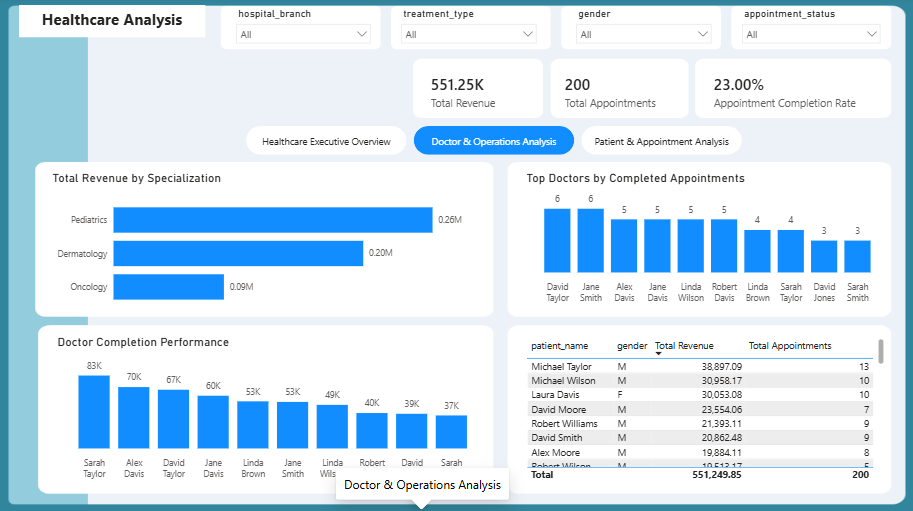

Layout of this report page (visuals, bound fields, positions):
{"tool":"powerbi","page":{"name":"Doctor & Operations Analysis","canvas":[1280,720],"ordinal":1},"visuals":[{"type":"cardVisual","fields":{"Data":["healthcare_analysis_view.Total Revenue"]},"box":[574.9,89.3,157.7,86.5],"z":0},{"type":"cardVisual","fields":{"Data":["healthcare_analysis_view.Total Appointments"]},"box":[761.9,89.3,192.6,86.5],"z":1000},{"type":"cardVisual","fields":{"Data":["healthcare_analysis_view.Completion Rate"]},"box":[969.8,89.3,262.3,86.5],"z":2000},{"type":"slicer","fields":{"Values":["healthcare_analysis_view.hospital_branch"]},"box":[322.3,9.8,207.9,68.4],"z":3000},{"type":"slicer","fields":{"Values":["healthcare_analysis_view.treatment_type"]},"box":[552.6,9.8,209.3,68.4],"z":4000},{"type":"slicer","fields":{"Values":["healthcare_analysis_view.gender"]},"box":[796.7,9.8,209.3,68.4],"z":5000},{"type":"slicer","fields":{"Values":["healthcare_analysis_view.appointment_status"]},"box":[1028.4,9.8,213.5,68.4],"z":6000},{"type":"clusteredColumnChart","title":"Doctor Completion Performance","fields":{"Category":["healthcare_analysis_view.doctor_name"],"Y":["healthcare_analysis_view.Total Revenue"]},"box":[78.1,471.6,604.2,209.3],"z":7000},{"type":"clusteredBarChart","title":"Total Revenue by Specialization","fields":{"Category":["healthcare_analysis_view.specialization"],"Y":["healthcare_analysis_view.Total Revenue"]},"box":[71.2,242.8,583.3,205.1],"z":8000},{"type":"tableEx","title":"Top Patients by Revenue","fields":{"Values":["healthcare_analysis_view.patient_name","healthcare_analysis_view.gender","healthcare_analysis_view.Total Revenue","healthcare_analysis_view.Total Appointments"]},"box":[732.6,471.6,509.3,209.3],"z":9000},{"type":"clusteredColumnChart","title":"Top Doctors by Completed Appointments","fields":{"Category":["healthcare_analysis_view.doctor_name"],"Y":["healthcare_analysis_view.Completed Appointments"]},"box":[732.6,242.8,509.3,192.6],"z":10000},{"type":"textbox","box":[29.3,11.2,259.5,44.7],"z":11000},{"type":"pageNavigator","box":[346,180,694.9,40.5],"z":12000}]}

Visuals, with their boxes in screenshot pixels (x1, y1, x2, y2), scaled from the page's 1280x720 canvas onto the 913x511 screenshot:
cardVisual - healthcare_analysis_view.Total Revenue: (left=410, top=63, right=523, bottom=125)
cardVisual - healthcare_analysis_view.Total Appointments: (left=543, top=63, right=681, bottom=125)
cardVisual - healthcare_analysis_view.Completion Rate: (left=692, top=63, right=879, bottom=125)
slicer - healthcare_analysis_view.hospital_branch: (left=230, top=7, right=378, bottom=56)
slicer - healthcare_analysis_view.treatment_type: (left=394, top=7, right=543, bottom=56)
slicer - healthcare_analysis_view.gender: (left=568, top=7, right=718, bottom=56)
slicer - healthcare_analysis_view.appointment_status: (left=734, top=7, right=886, bottom=56)
"Doctor Completion Performance" clusteredColumnChart: (left=56, top=335, right=487, bottom=483)
"Total Revenue by Specialization" clusteredBarChart: (left=51, top=172, right=467, bottom=318)
"Top Patients by Revenue" tableEx: (left=523, top=335, right=886, bottom=483)
"Top Doctors by Completed Appointments" clusteredColumnChart: (left=523, top=172, right=886, bottom=309)
textbox: (left=21, top=8, right=206, bottom=40)
pageNavigator: (left=247, top=128, right=742, bottom=156)
